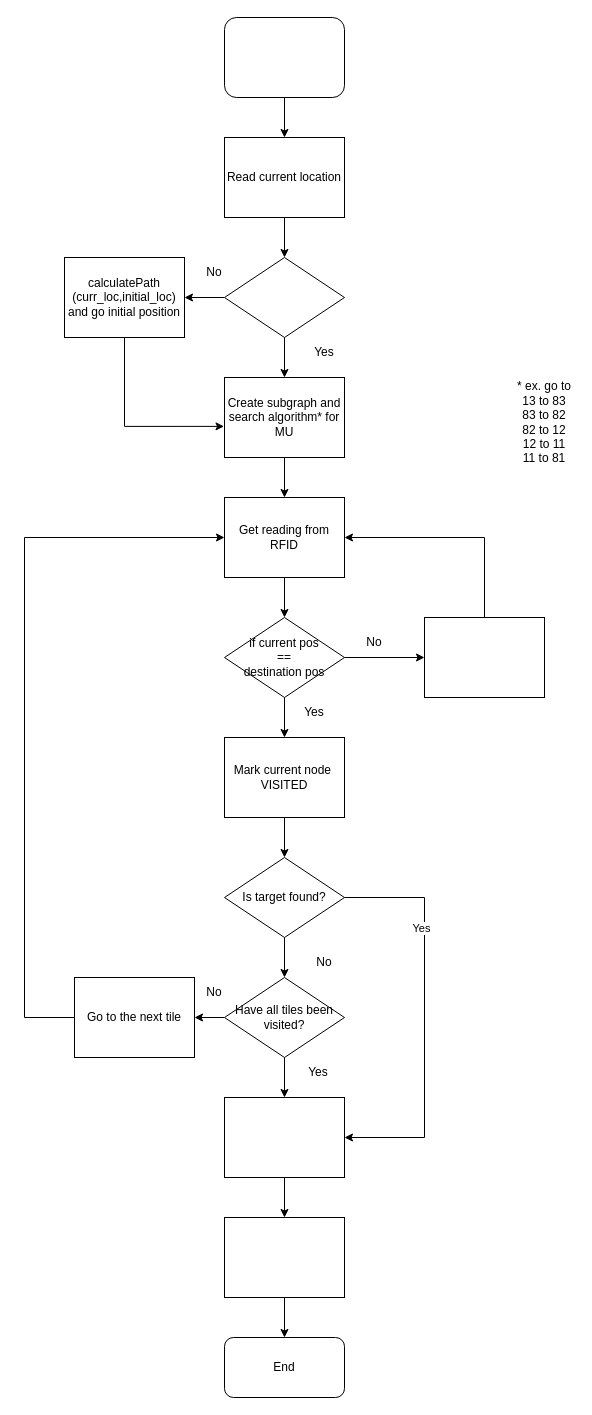
This 592x1415 diagram has some shape labels left out. The centre of each missing label's shape, as x and y in pixels:
Calculate path from current tile to base: (x=284, y=1137)
Correct the position: (x=484, y=657)
current location == initial location: (x=284, y=297)
Go to base (ya da haberleşme yerine ya da olduğu yerde kaladabilir ?): (x=284, y=1257)
Start: (x=284, y=57)
